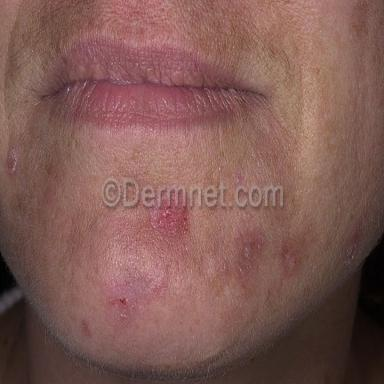acne: (104, 275, 146, 325), (148, 203, 187, 237), (237, 233, 262, 274), (343, 235, 366, 269), (6, 145, 19, 174)
